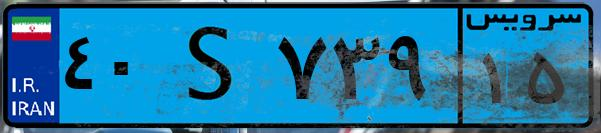0: (110, 28, 158, 98)
1: (475, 38, 525, 113)
3: (330, 28, 385, 110)
4: (57, 26, 110, 100)
5: (525, 38, 570, 115)
7: (270, 28, 330, 110)
9: (385, 28, 445, 110)
S: (158, 12, 270, 120)
